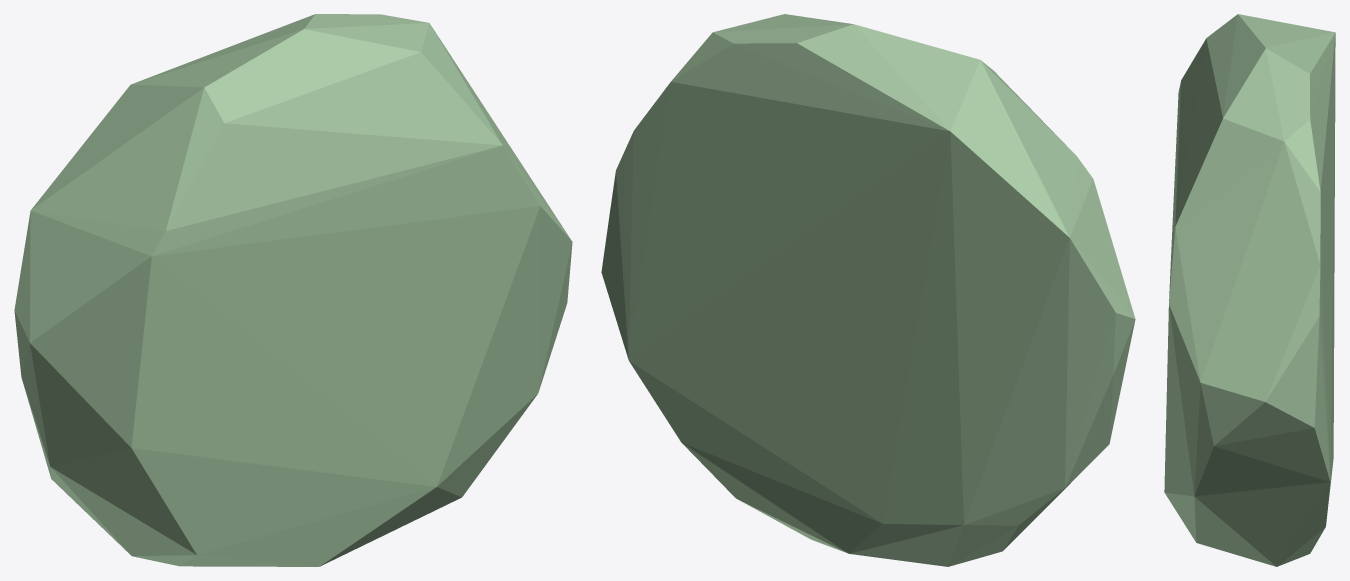
File: food_packaged_bread_danish_a02.glb
3 renders of one model, left to right at view 1: azimuth 30°, elevation 25°; view 2: azimuth 150°, elevation 25°; view 3: azimuth 270°, elevation 25°, orthographic. The views are drawn at different scales.
Visible parts, largest first — view 1: geometry_0; view 2: geometry_0; view 3: geometry_0.
Boxes of the visible parts, x1,y1,x2,y2 form: geometry_0: (14, 14, 572, 566); geometry_0: (601, 14, 1135, 566); geometry_0: (1164, 14, 1335, 566).
Size of the model in its own units: 0.4773 by 0.4556 by 0.1421.
